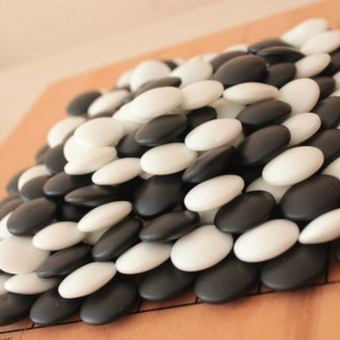black: (195, 257, 260, 304), (214, 189, 276, 234), (35, 244, 94, 278), (139, 210, 201, 242), (134, 113, 185, 147)
white: (184, 174, 244, 210), (185, 118, 244, 151), (77, 199, 132, 232), (91, 156, 142, 186), (222, 81, 279, 106)
